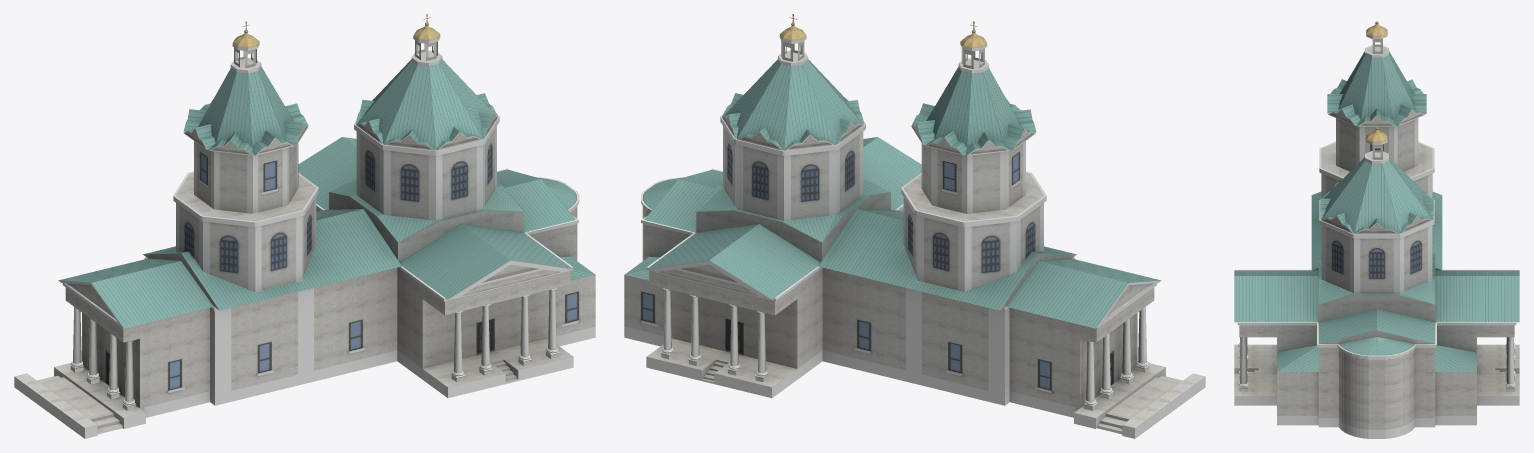
File: Svyato-Mykolaivsky-Khram.glb
3 renders of one model, left to right at view 1: azimuth 30°, elevation 25°; view 2: azimuth 150°, elevation 25°; view 3: azimuth 270°, elevation 25°, orthographic. The views are drawn at different scales.
Visible parts, largest first — view 1: Untitled; view 2: Untitled; view 3: Untitled.
Boxes of the visible parts, left/top/right/bottom form: Untitled: left=14, top=14, right=595, bottom=438; Untitled: left=624, top=14, right=1205, bottom=438; Untitled: left=1234, top=21, right=1519, bottom=438.
Bounding box in the file's own units: 40.26 × 25.33 × 22.53.
1 material, 1 textured.
